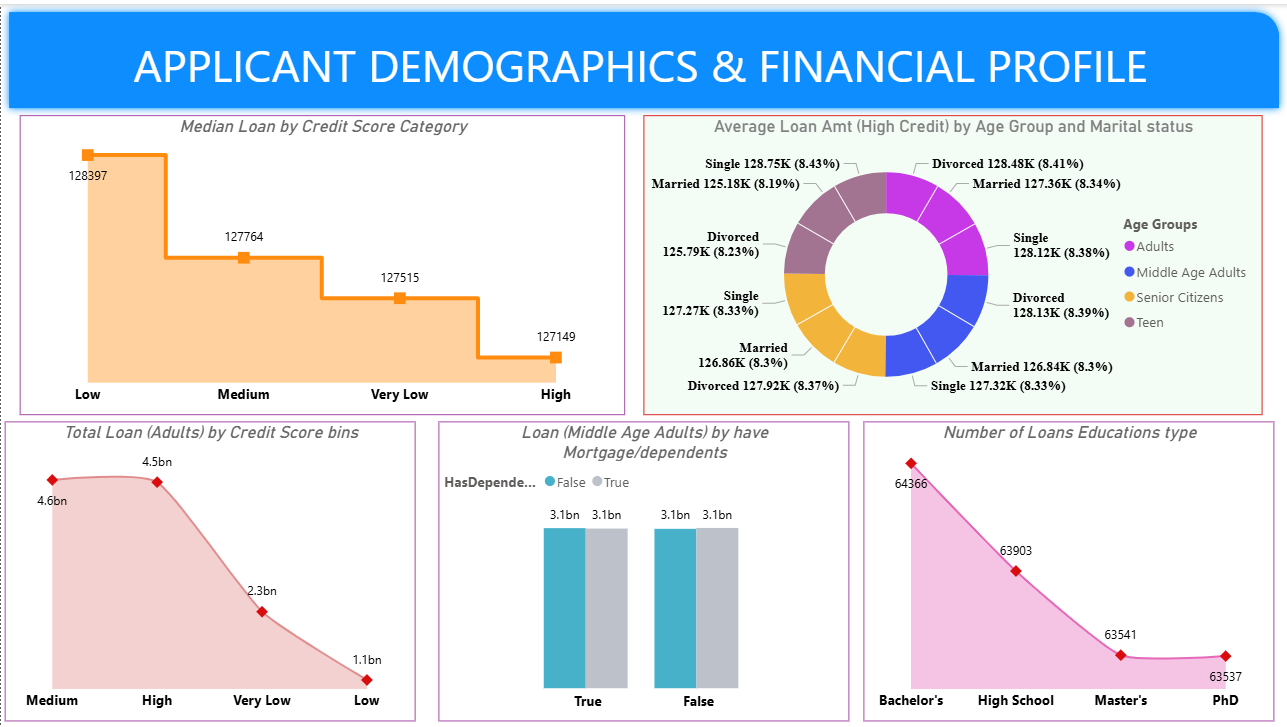

Layout of this report page (visuals, bound fields, positions):
{"tool":"powerbi","page":{"name":"APPLICANT DEMOGRAPHICS &  FINANCIAL PROFILE","canvas":[1280,720],"ordinal":1},"visuals":[{"type":"shape","box":[0,0,1280,112],"z":0},{"type":"lineChart","title":"Median Loan by Credit Score Category","fields":{"Category":["Loan_default (1).Credit Score Bins"],"Y":["MEASURES Table 2.Median by credit score bins"]},"box":[18.7,110.7,602.1,298.6],"z":1000},{"type":"donutChart","title":"Average Loan Amt (High Credit) by Age Group and Marital status","fields":{"Y":["MEASURES Table 2.Median by credit score bins"],"Series":["Loan_default (1).MaritalStatus"],"Category":["Loan_default (1).Age Groups"]},"box":[639.4,110.7,615.8,298.6],"z":2000},{"type":"lineChart","title":"Total Loan (Adults)  by Credit Score bins","fields":{"Category":["Loan_default (1).Credit Score Bins"],"Y":["MEASURES Table 2.Total Loan (Credit Bins)"]},"box":[4.3,415.7,408.6,298.6],"z":3000},{"type":"clusteredColumnChart","title":"Loan (Middle Age Adults)  by have Mortgage/dependents","fields":{"Y":["MEASURES Table 2.Total Loan (Middle Age Adults)"],"Category":["Loan_default (1).HasMortgage"],"Series":["Loan_default (1).HasDependents"]},"box":[435.7,415.7,408.6,298.6],"z":4000},{"type":"lineChart","title":"Number of  Loans Educations type","fields":{"Y":["MEASURES Table 2.Loan by Education Type"],"Category":["Loan_default (1).Education"]},"box":[858.6,415.7,408.6,298.6],"z":5000}]}

Visuals, with their boxes in screenshot pixels (x1, y1, x2, y2), scaled from the page's 1280x720 canvas onto the 1287x727 screenshot:
shape: bbox=[0, 0, 1286, 113]
"Median Loan by Credit Score Category" lineChart: bbox=[19, 112, 624, 413]
"Average Loan Amt (High Credit) by Age Group and Marital status" donutChart: bbox=[643, 112, 1262, 413]
"Total Loan (Adults)  by Credit Score bins" lineChart: bbox=[4, 420, 415, 721]
"Loan (Middle Age Adults)  by have Mortgage/dependents" clusteredColumnChart: bbox=[438, 420, 849, 721]
"Number of  Loans Educations type" lineChart: bbox=[863, 420, 1274, 721]
